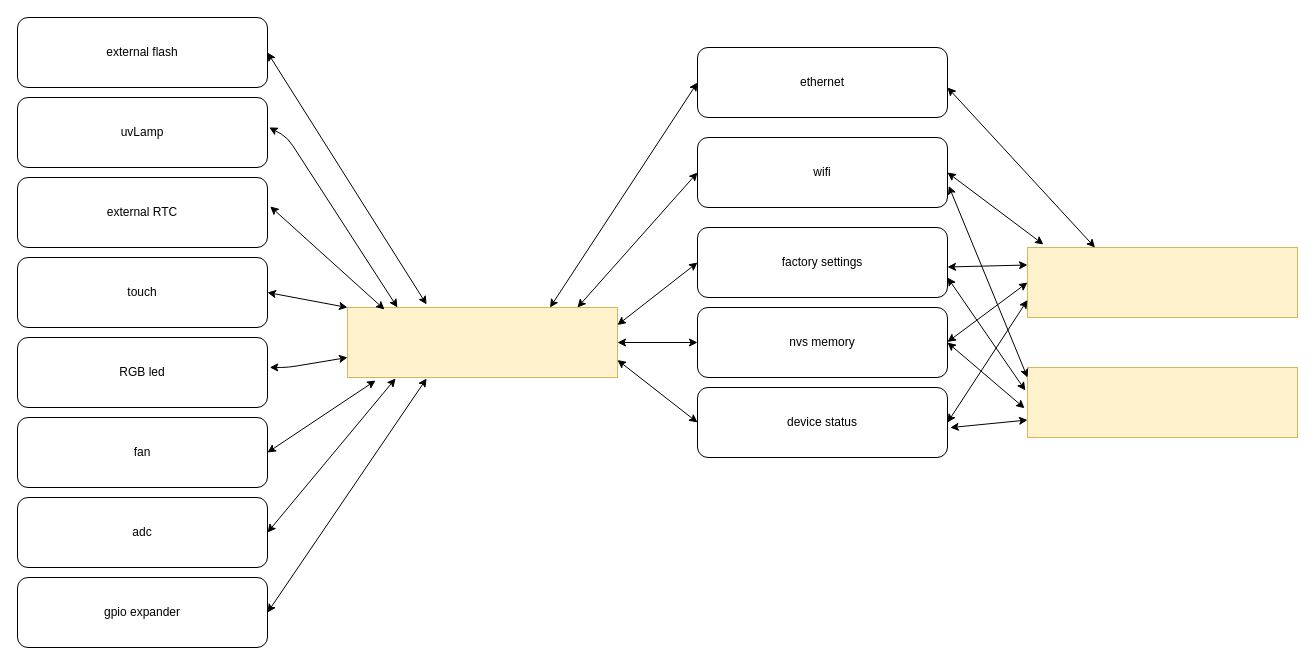
This 1315x665 diagram has some shape labels left out. The centre of each missing label's shape, as x and y in pixels:
Cloud thread: the point at 1162,282
Main thread: the point at 482,342
Webserwer: the point at 1162,402
